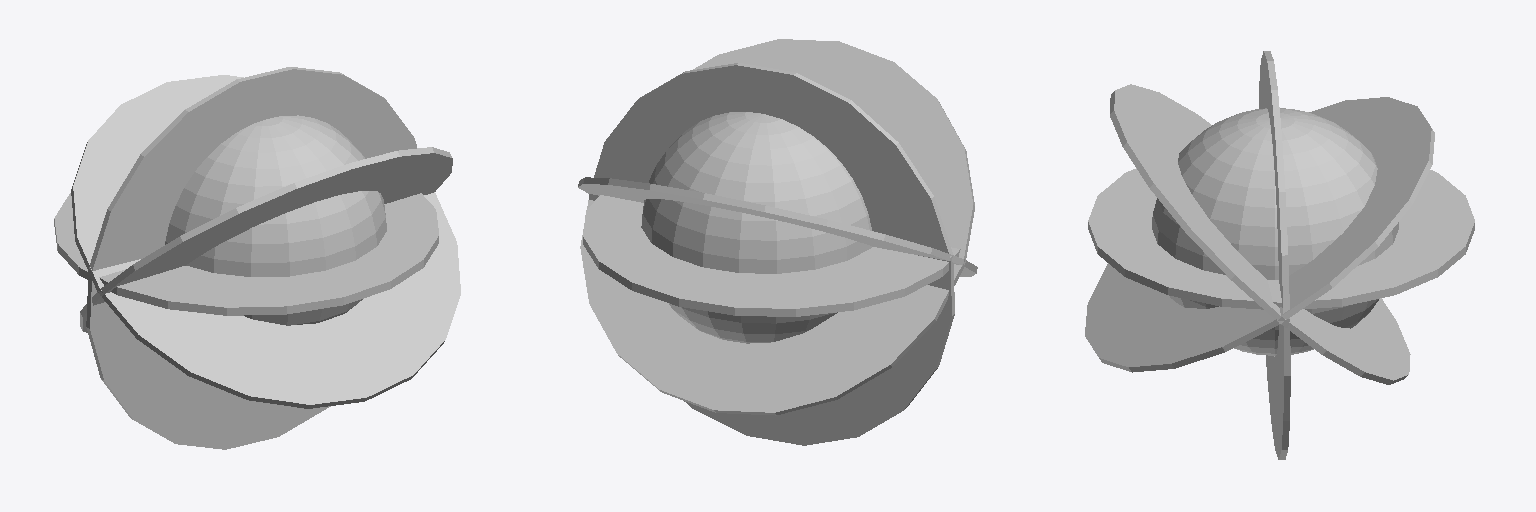
File: nucleus.obj
The picture shows the model from 3 angles: view 1: azimuth 30°, elevation 25°; view 2: azimuth 150°, elevation 25°; view 3: azimuth 270°, elevation 25°; orthographic projection.
Parts seen in each view (by area): view 1: pPipe3, pPipe2, pSphere1, pPipe1, pPipe4; view 2: pPipe4, pPipe2, pSphere1, pPipe1, pPipe3; view 3: pSphere1, pPipe3, pPipe1, pPipe4, pPipe2.
Boxes of the visible parts, x1,y1,x2,y2 form: pPipe3: [71, 75, 460, 408]; pPipe2: [86, 67, 416, 449]; pSphere1: [165, 115, 386, 325]; pPipe1: [54, 193, 438, 315]; pPipe4: [80, 147, 452, 332]; pPipe4: [580, 39, 974, 415]; pPipe2: [589, 63, 954, 445]; pSphere1: [641, 112, 871, 343]; pPipe1: [583, 195, 960, 316]; pPipe3: [578, 177, 977, 276]; pSphere1: [1152, 108, 1398, 355]; pPipe3: [1085, 97, 1434, 372]; pPipe1: [1088, 168, 1474, 309]; pPipe4: [1110, 84, 1410, 384]; pPipe2: [1259, 51, 1290, 459].
Size of the model in its own units: 3.55 by 3.53 by 3.39.